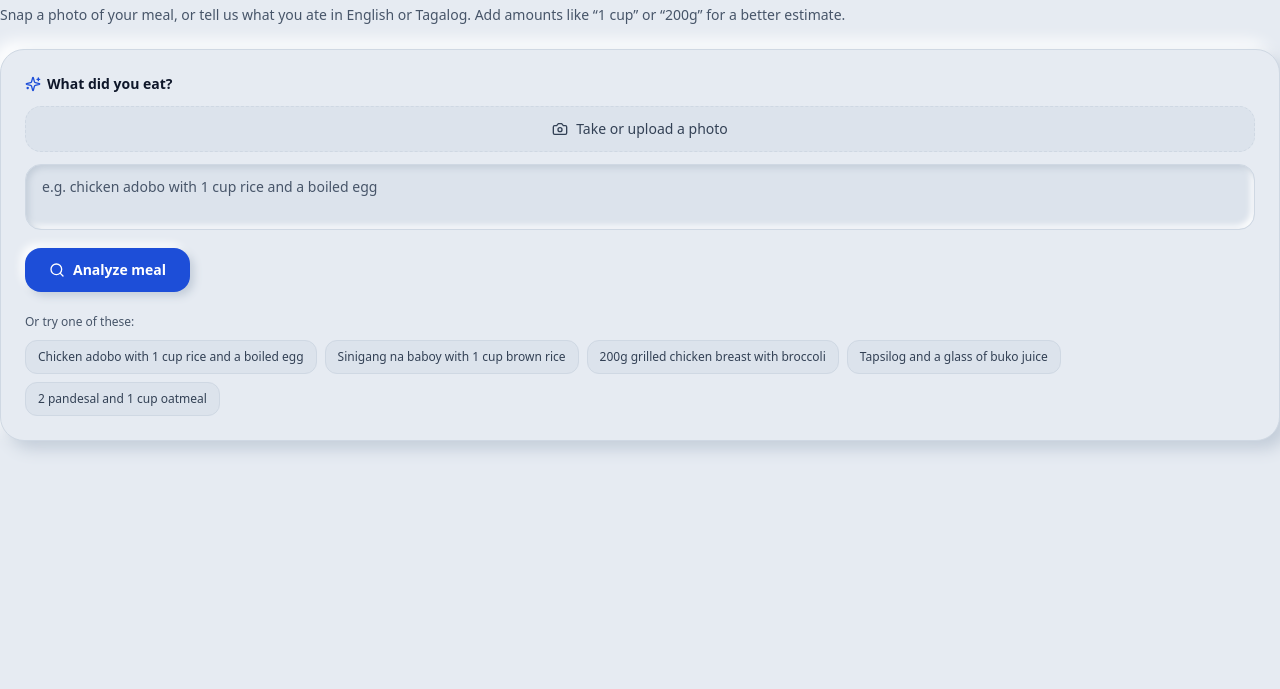
it: meal scanner confirmation › says the analysis is done and how many foods were found
In the text box labelled "What did you eat?": {"x": 640, "y": 197} x1=25 y1=164 x2=1255 y2=230, type "120g chicken adobo"
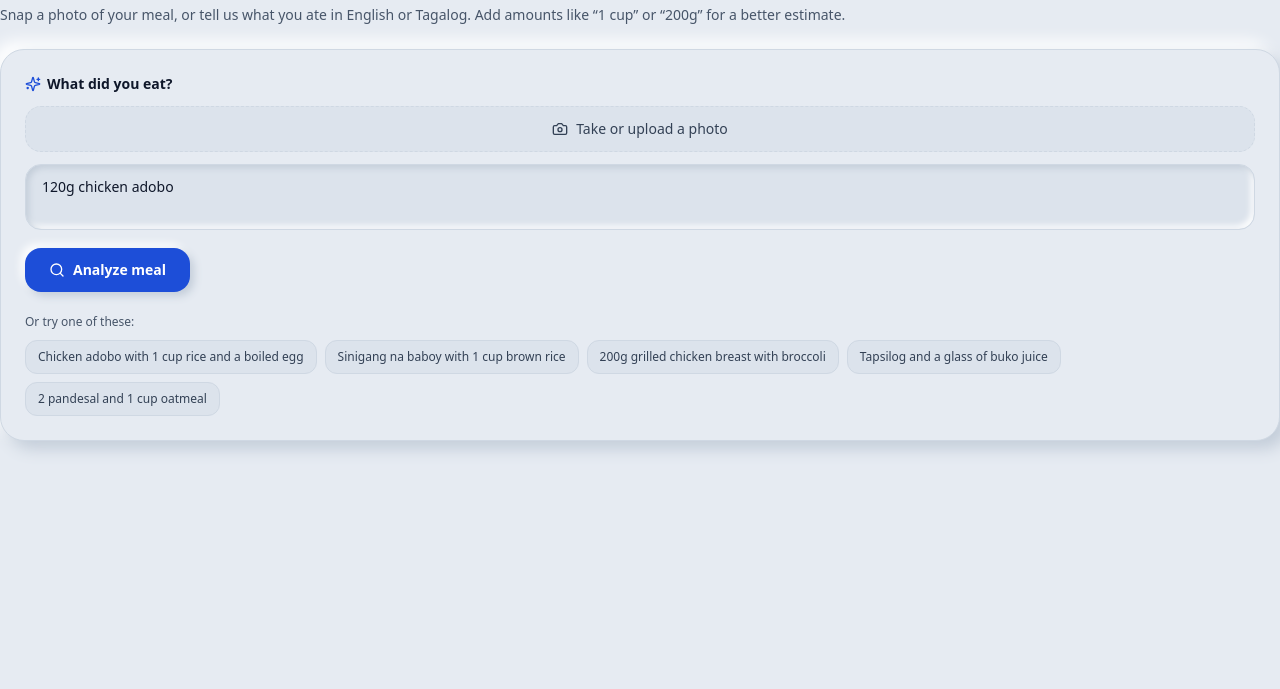
Click the button "Analyze meal": {"x": 108, "y": 270} x1=25 y1=248 x2=190 y2=292
(page scrolled)
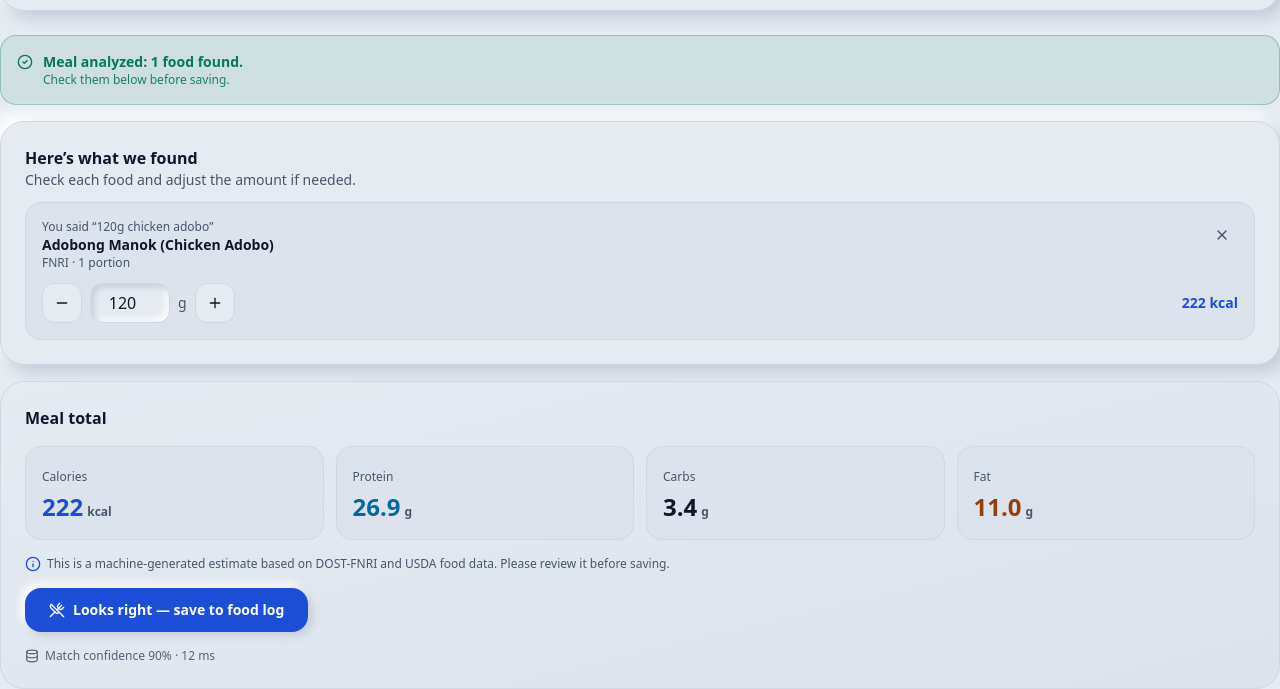
Expected: the message shows "Meal analyzed: 1 food found.", x1=43 y1=52 x2=243 y2=71
